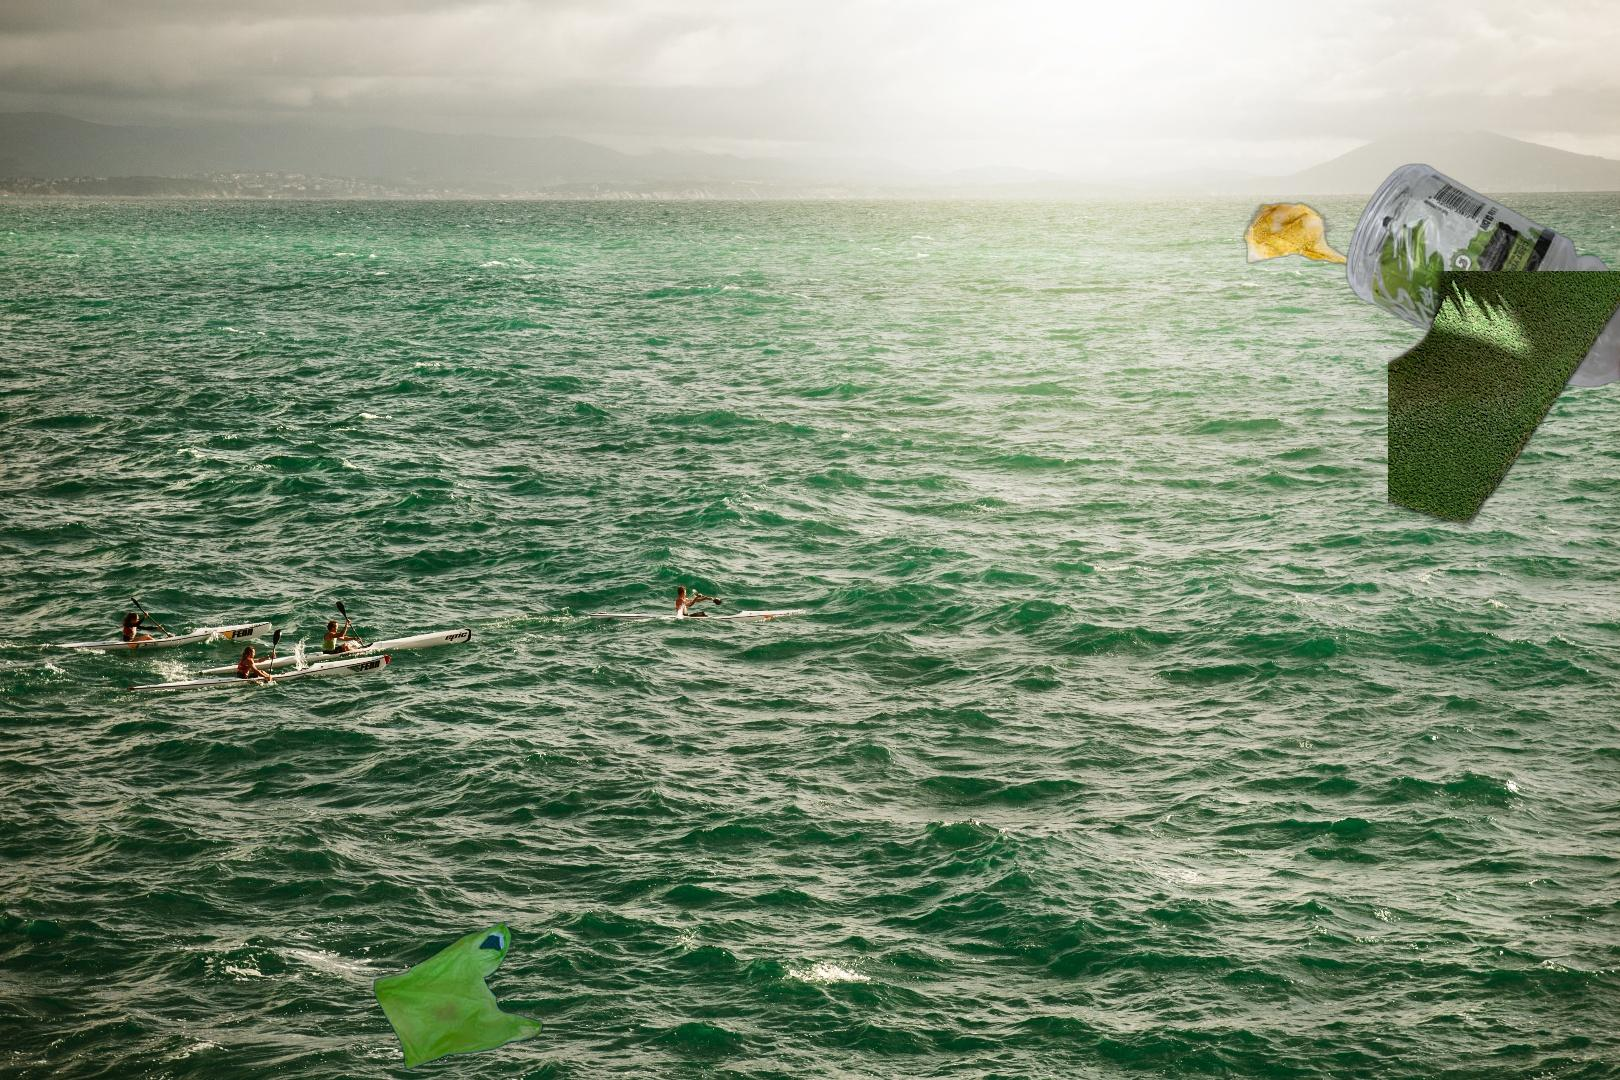glass: (1389, 271, 1620, 632)
plastic-bag: (371, 920, 544, 1072)
plastic-bottles: (1342, 160, 1620, 401)
trash: (1238, 199, 1367, 269)
